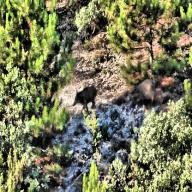boar: (71, 79, 100, 114)
